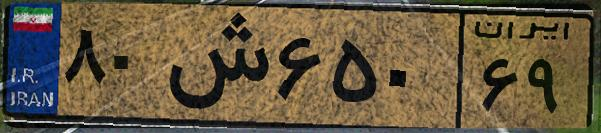0: (385, 28, 445, 110), (110, 28, 158, 98)
5: (330, 28, 385, 110)
6: (270, 28, 330, 110), (475, 38, 525, 113)
8: (57, 26, 110, 100)
9: (525, 38, 570, 115)
ش: (158, 12, 270, 120)
